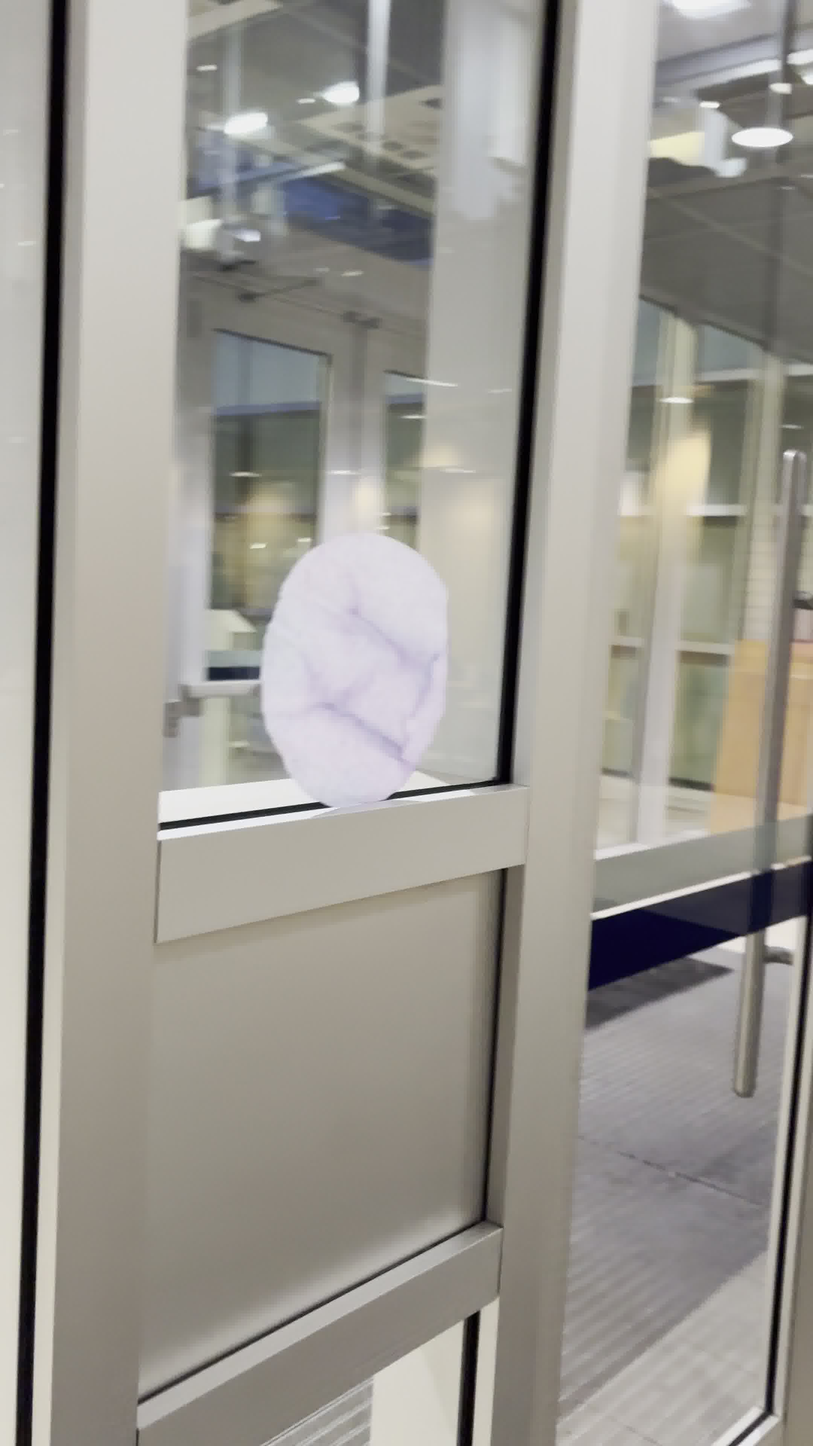Target: (261, 533, 449, 807)
